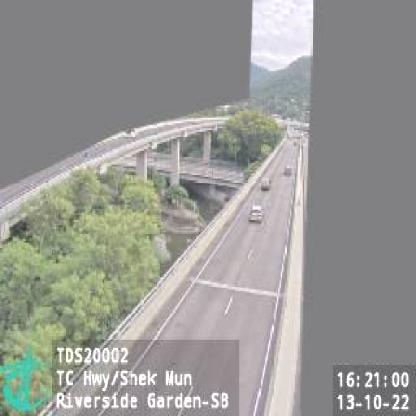Car: (248, 205, 262, 223), (260, 179, 270, 190)
